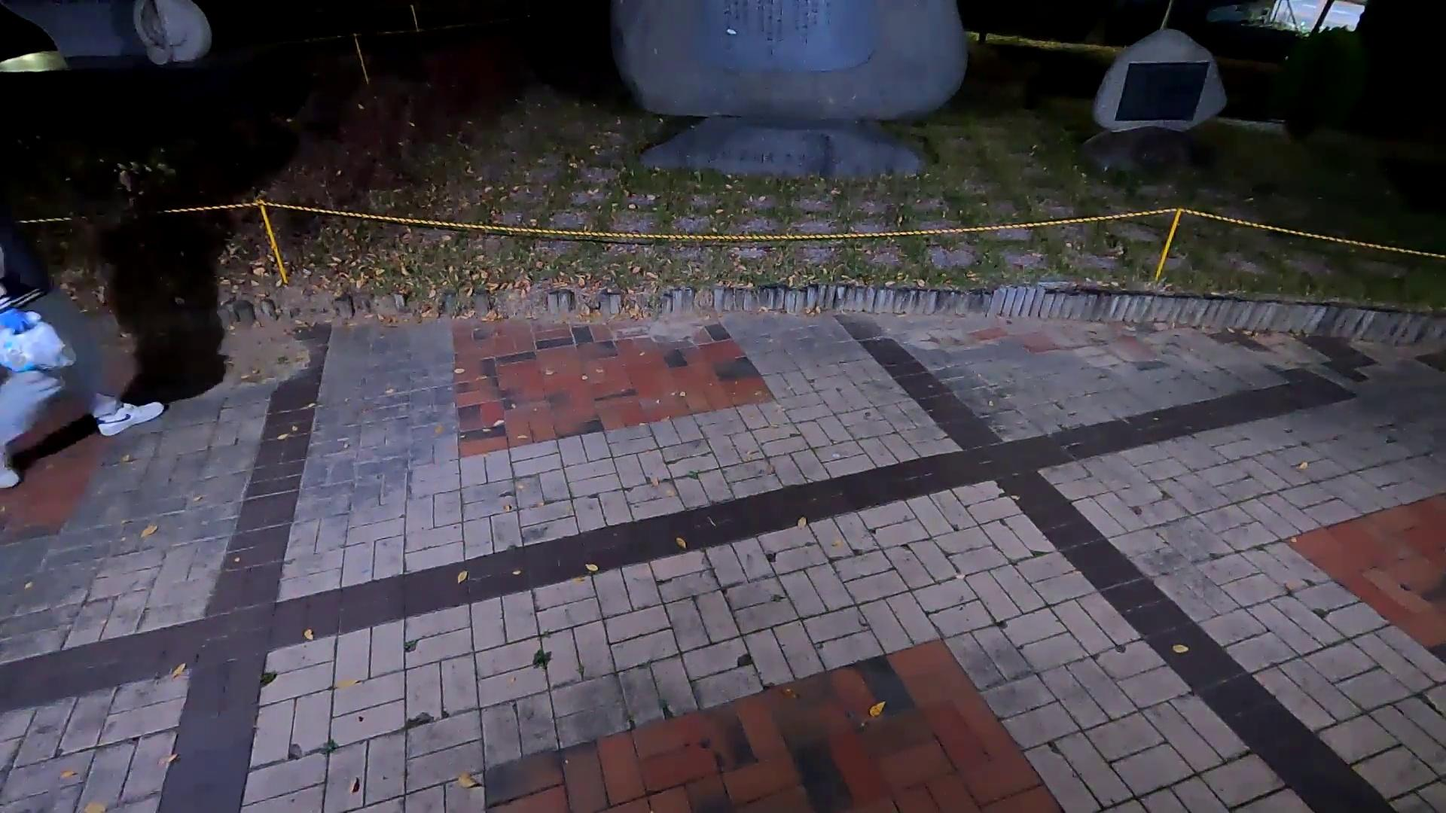person: (0, 120, 179, 495)
trash: (0, 308, 85, 379)
